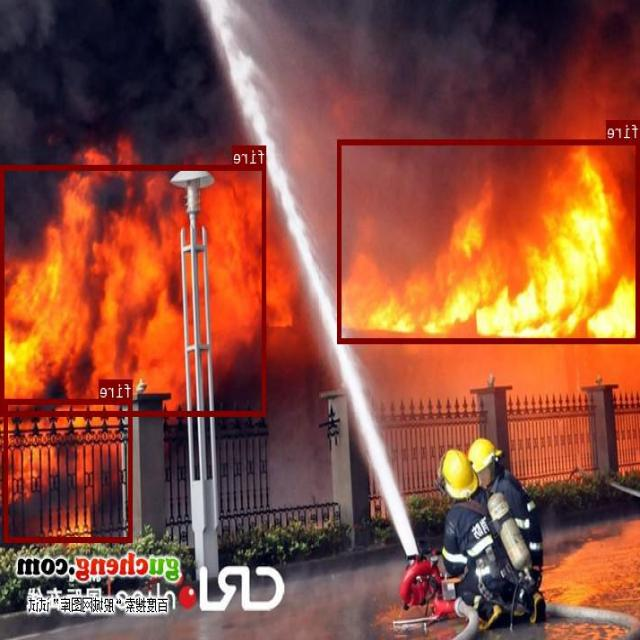fire: (2, 164, 267, 414), (339, 139, 640, 342), (5, 398, 133, 542)
